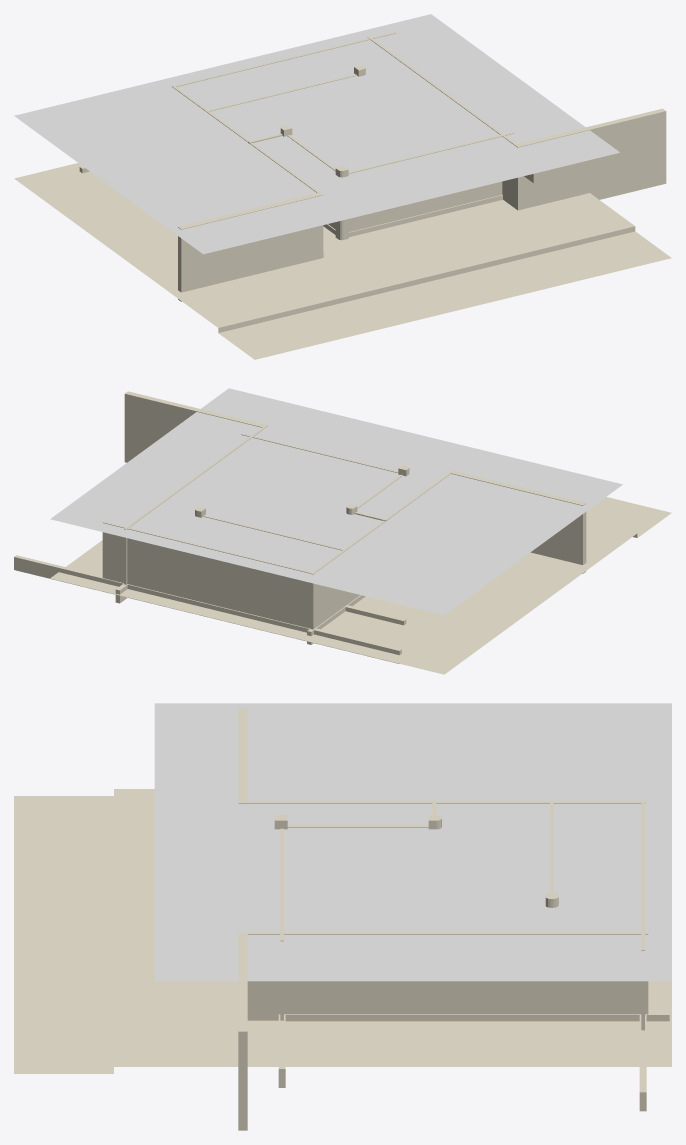
File: basic 1.fbx
3 views of the same model, one above another, from view 1: azimuth 30°, elevation 25°; view 2: azimuth 150°, elevation 25°; view 3: azimuth 270°, elevation 25° (orthographic). The views are drawn at different scales.
Parts seen in each view (by area): view 1: Plane.001, Plane, Cube.003, Cube, Cube.002, Cube.012, Cube.007; view 2: Plane.001, Plane, Cube.007, Cube, Cube.003, Cube.015, Cube.014; view 3: Plane.001, Plane, Cube.003, Cube.013, Cube, Cube.007, Cube.015.
Boxes of the visible parts, x1=… form: Plane.001: x1=14, y1=14, x2=619, y2=254; Plane: x1=14, y1=163, x2=671, y2=359; Cube.003: x1=367, y1=37, x2=666, y2=210; Cube: x1=172, y1=85, x2=323, y2=301; Cube.002: x1=348, y1=132, x2=514, y2=231; Cube.012: x1=348, y1=194, x2=502, y2=237; Cube.007: x1=174, y1=32, x2=396, y2=86; Plane.001: x1=50, y1=388, x2=622, y2=615; Plane: x1=50, y1=497, x2=671, y2=674; Cube.007: x1=102, y1=521, x2=312, y2=628; Cube: x1=311, y1=470, x2=586, y2=629; Cube.003: x1=124, y1=391, x2=267, y2=584; Cube.015: x1=14, y1=555, x2=401, y2=663; Cube.014: x1=345, y1=605, x2=406, y2=625; Plane.001: x1=154, y1=703, x2=671, y2=981; Plane: x1=14, y1=789, x2=671, y2=1073; Cube.003: x1=238, y1=932, x2=648, y2=1130; Cube.013: x1=285, y1=1012, x2=669, y2=1021; Cube: x1=238, y1=708, x2=645, y2=803; Cube.007: x1=641, y1=803, x2=644, y2=1030; Cube.015: x1=639, y1=1014, x2=646, y2=1111.
Bounding box in the file's own units: 5532 × 841 × 4676.
